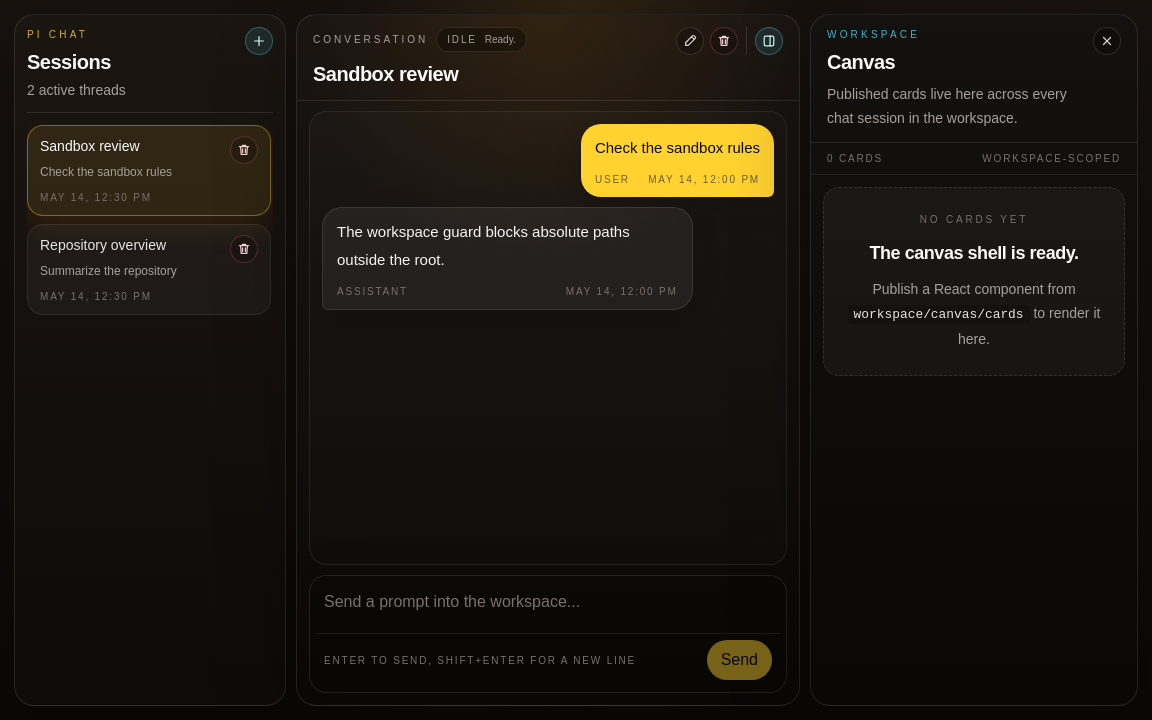
App › deletes the selected session and focuses the next one
The width and height of the screenshot is (1152, 720).
Expected: the heading "Sandbox review" is shown, x1=313 y1=63 x2=458 y2=85
Click the button named "Delete" at (724, 41), box x1=710 y1=27 x2=738 y2=55
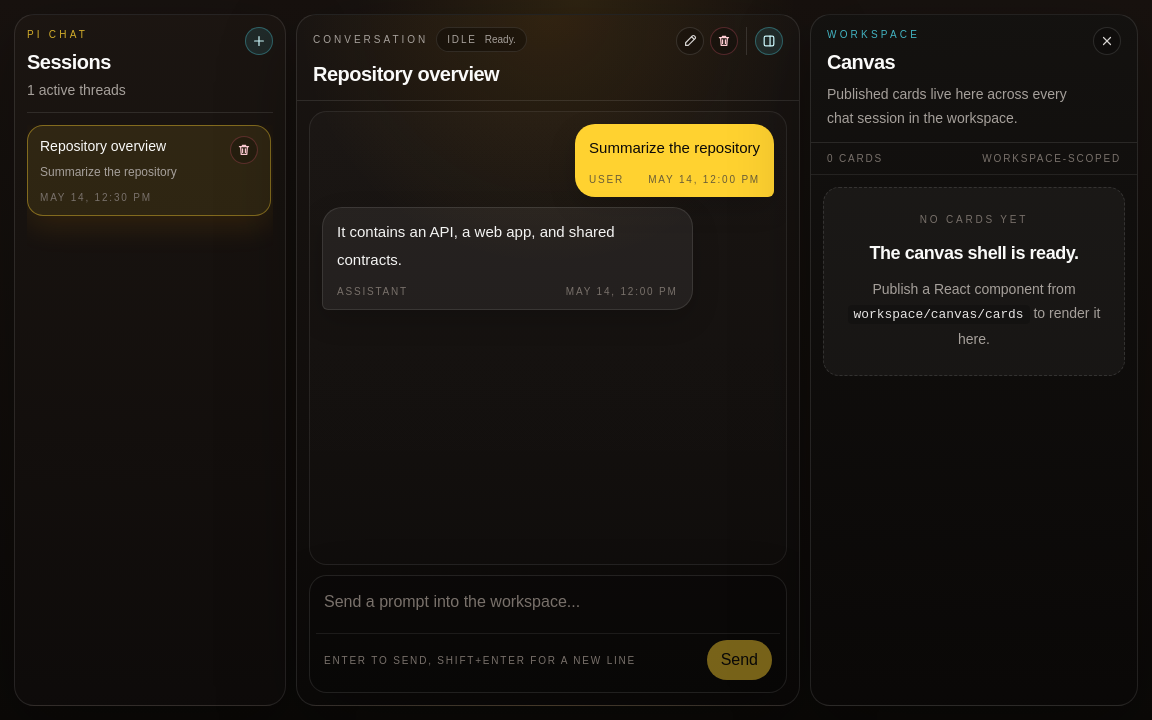
Result: the heading "Repository overview" is shown at x1=313 y1=63 x2=499 y2=85
Result: the button "Sandbox review" is gone
